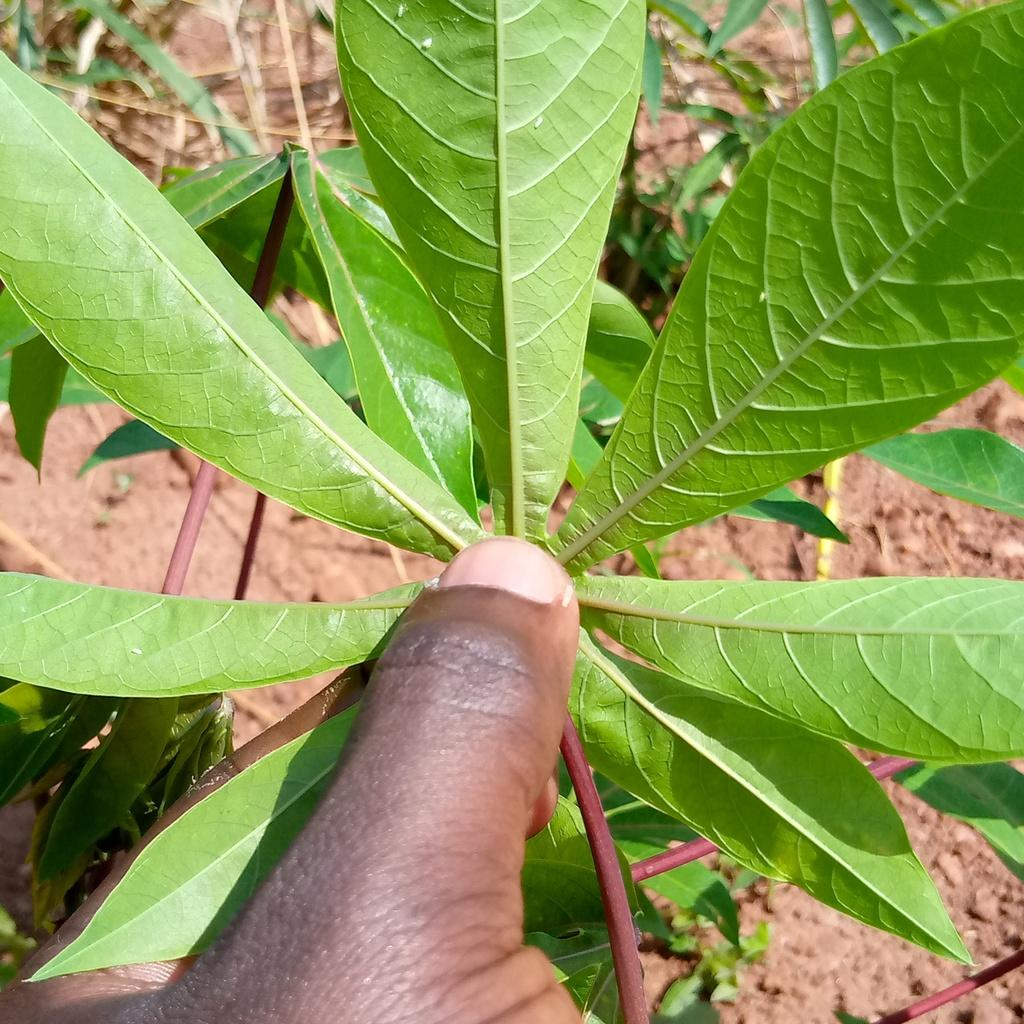adult: (534, 117, 543, 128), (423, 37, 432, 48), (131, 648, 142, 656), (397, 5, 404, 17), (758, 293, 765, 303)
